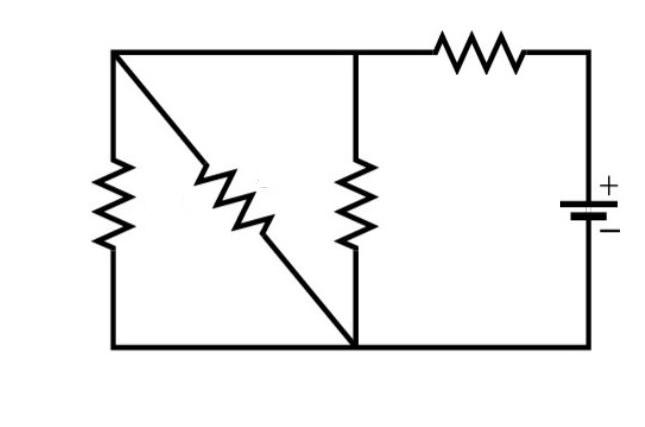resistor: (169, 150, 281, 255), (78, 143, 145, 270), (420, 22, 537, 85), (329, 143, 393, 254)
